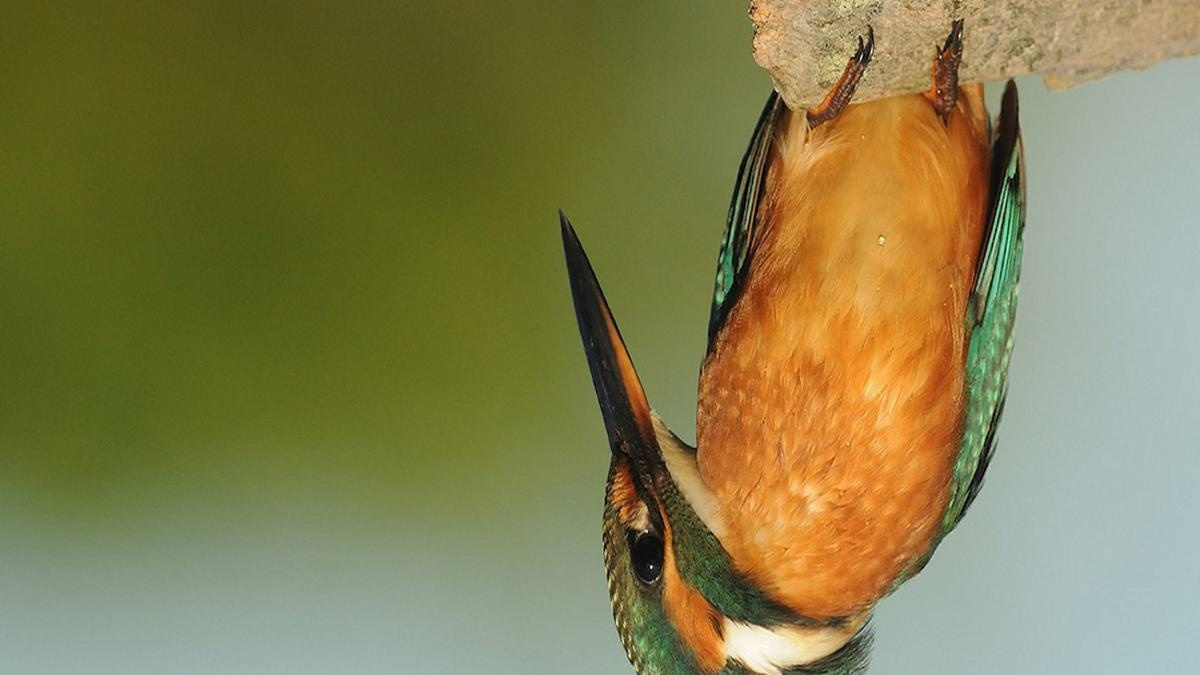kingfisher: (545, 71, 1024, 675)
